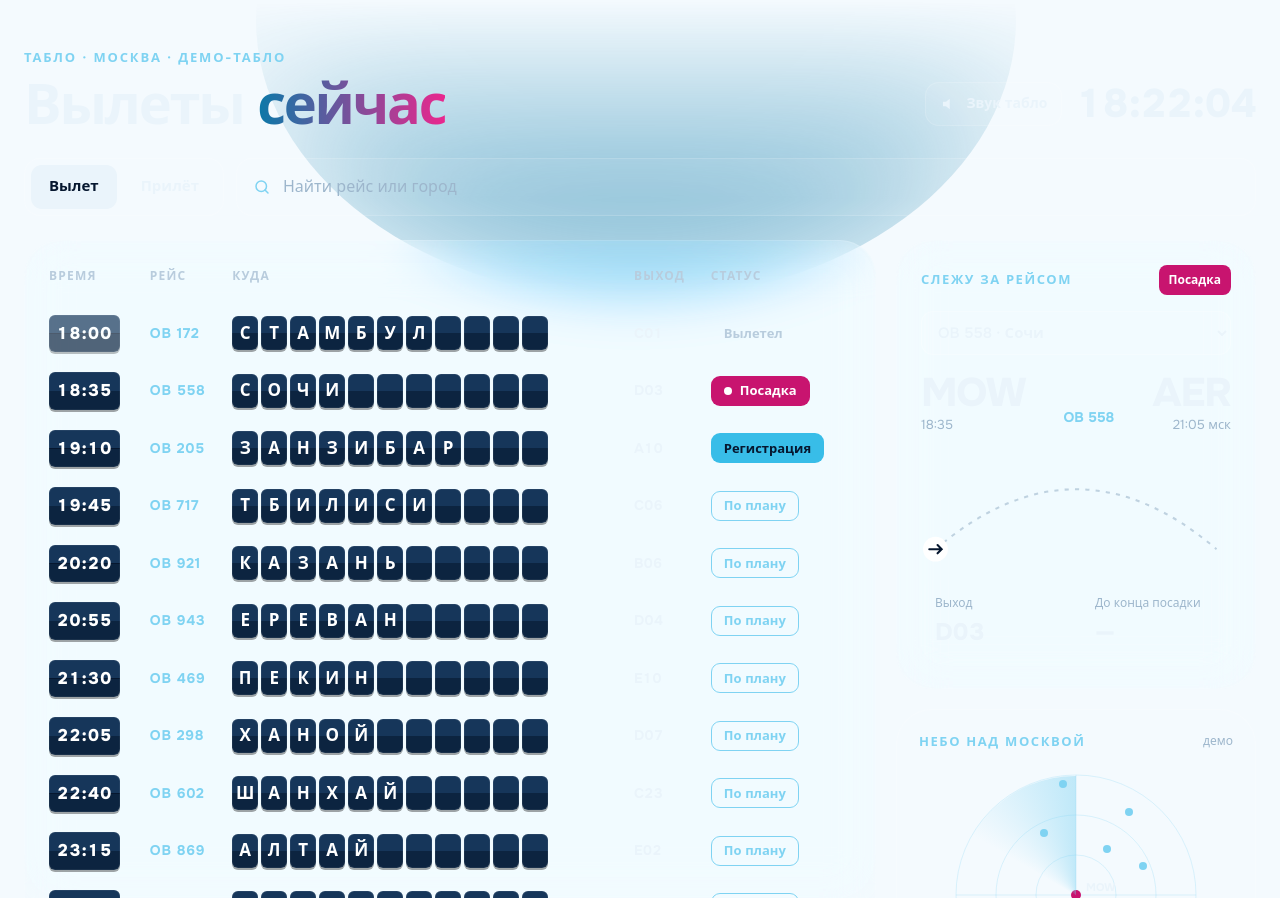
Scenario: Board › lists demo flights and keeps the sound off by default
Expected: the text "Табло · Москва · демо-табло" is shown, [24,49,286,66]
What coordinates should you click on to do the following:
click the button "Звук табло"
I would click on:
 (994, 104)
Its box is [925,82,1062,126].
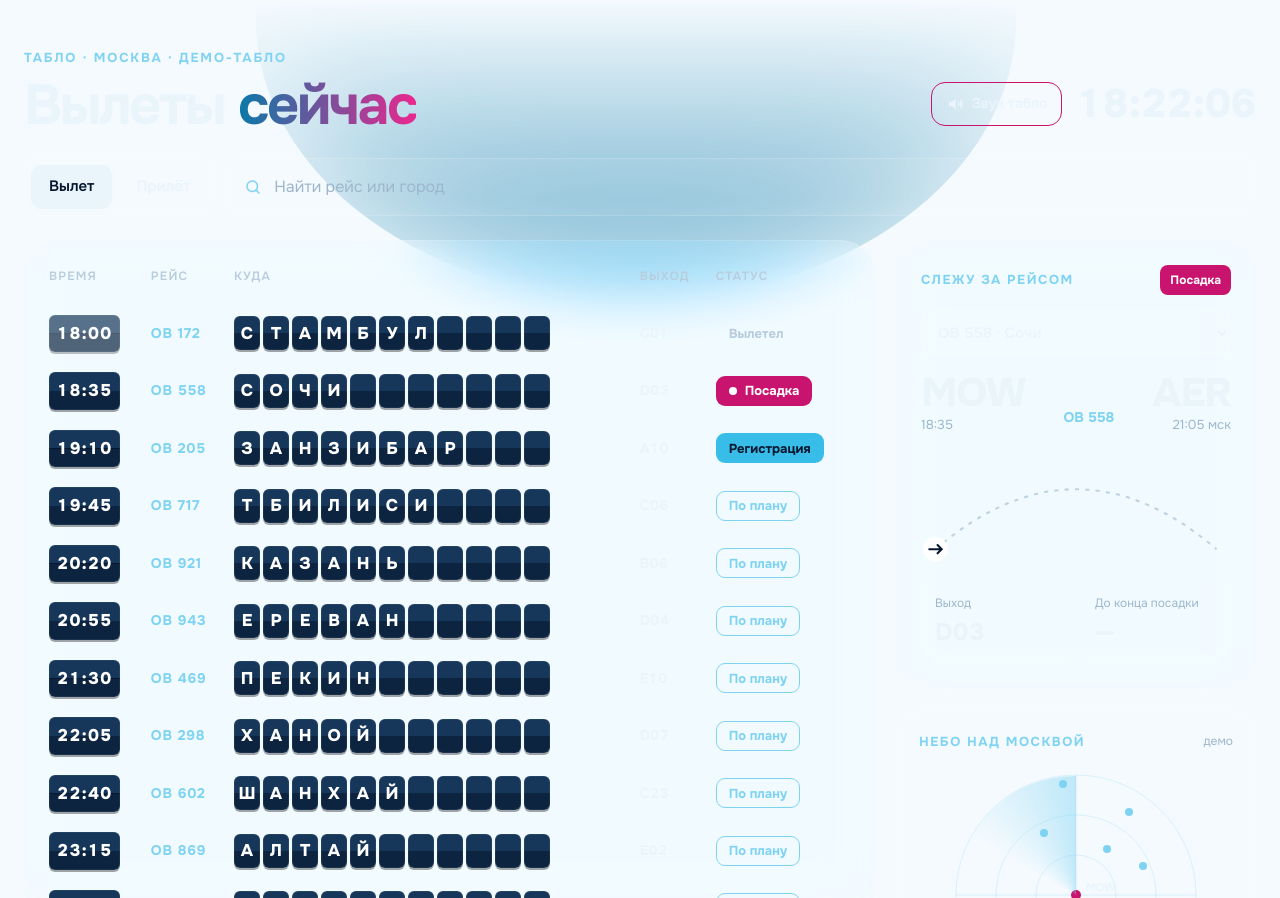
Now the button "Звук табло" is pressed, box [931,82,1062,126]
